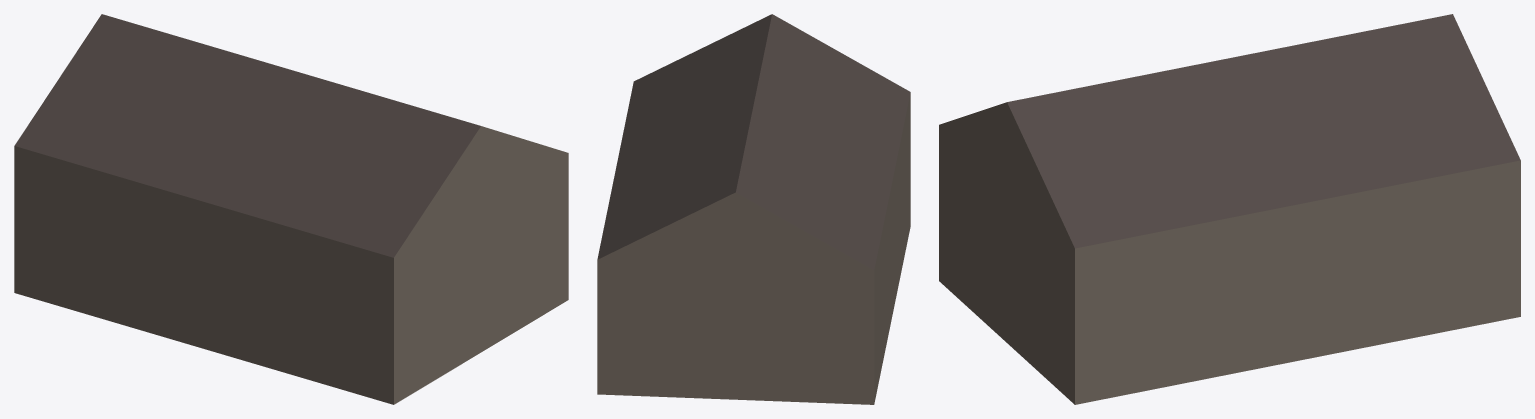
3 renders of one model, left to right at view 1: azimuth 30°, elevation 25°; view 2: azimuth 150°, elevation 25°; view 3: azimuth 270°, elevation 25°, orthographic. The views are drawn at different scales.
Visible parts, largest first — view 1: HP-w859488725; view 2: HP-w859488725; view 3: HP-w859488725.
Part boxes in pixels (x1=…): HP-w859488725: x1=14, y1=14, x2=568, y2=404; HP-w859488725: x1=597, y1=14, x2=910, y2=404; HP-w859488725: x1=939, y1=14, x2=1520, y2=404.
Size of the model in its own units: 17.44 by 9.24 by 20.22.
